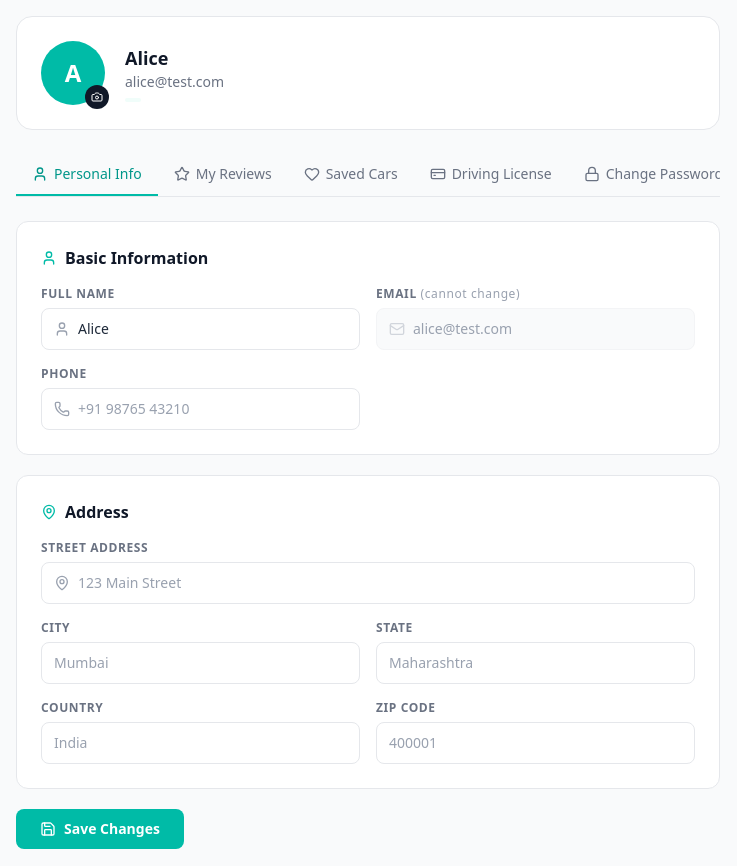
it: Profile — My Reviews tab › shows empty state when reviews array is empty
Click the button "My Reviews" at {"x": 223, "y": 175}, box [158,154,288,196]
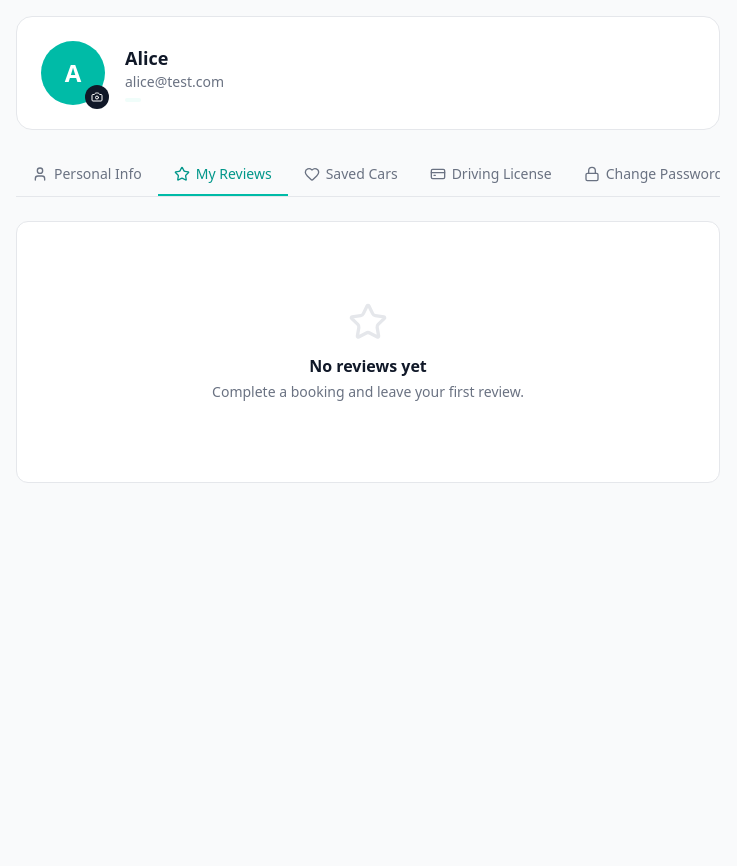
Expected: the heading "No reviews yet" is shown, [309,355,427,377]
